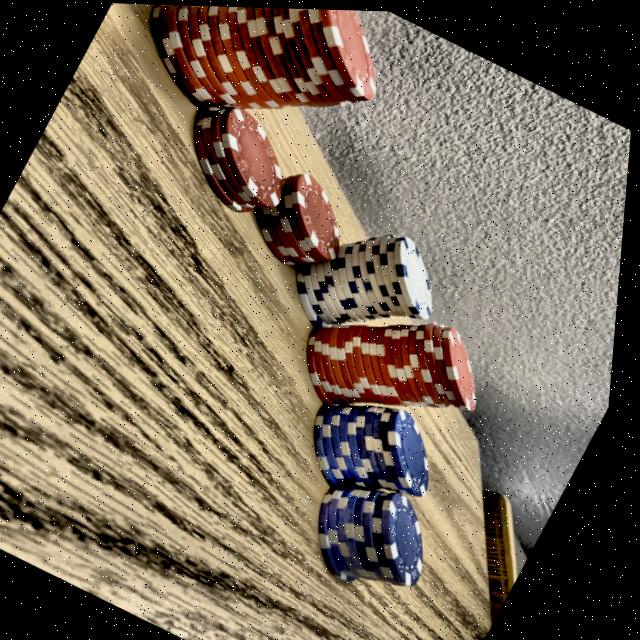Chip: (282, 258, 533, 474), (130, 3, 430, 179), (281, 191, 482, 378), (275, 448, 472, 627), (289, 363, 475, 528), (223, 142, 388, 299), (154, 80, 324, 230)
